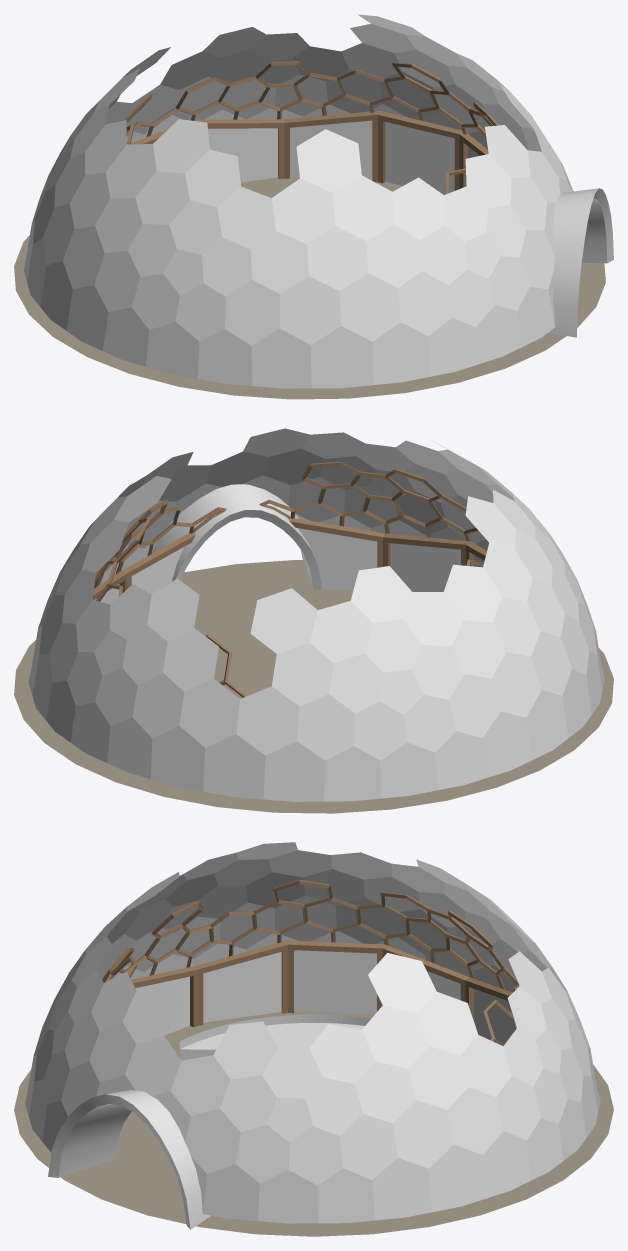
The model's file is BOD_v7_Env.glb.
The picture shows the model from 3 angles, top to bottom: view 1: azimuth 30°, elevation 25°; view 2: azimuth 150°, elevation 25°; view 3: azimuth 270°, elevation 25°; orthographic projection.
Parts seen in each view (by area): view 1: Dome_v2_b_dissolving, Walls, Ground, Gate, Dome_v2_dissolving; view 2: Dome_v2_b_dissolving, Ground, Walls, Dome_v2_dissolving, Gate; view 3: Dome_v2_b_dissolving, Walls, Ground, Gate, Dome_v2_dissolving, Stage.
Part boxes in pixels (x1,y1,x2,y2): Dome_v2_b_dissolving: [24, 14, 573, 388]; Walls: [130, 111, 488, 194]; Ground: [14, 176, 605, 399]; Gate: [548, 188, 613, 337]; Dome_v2_dissolving: [122, 61, 498, 193]; Dome_v2_b_dissolving: [28, 428, 604, 801]; Ground: [14, 560, 613, 813]; Walls: [92, 518, 486, 604]; Dome_v2_dissolving: [94, 461, 483, 697]; Gate: [151, 461, 322, 589]; Dome_v2_b_dissolving: [25, 842, 600, 1223]; Walls: [131, 940, 515, 1044]; Ground: [14, 1011, 613, 1236]; Gate: [48, 1090, 210, 1229]; Dome_v2_dissolving: [102, 879, 519, 1045]; Stage: [179, 1014, 370, 1060].
Bounding box in the file's own units: 2 × 0.777 × 2.
